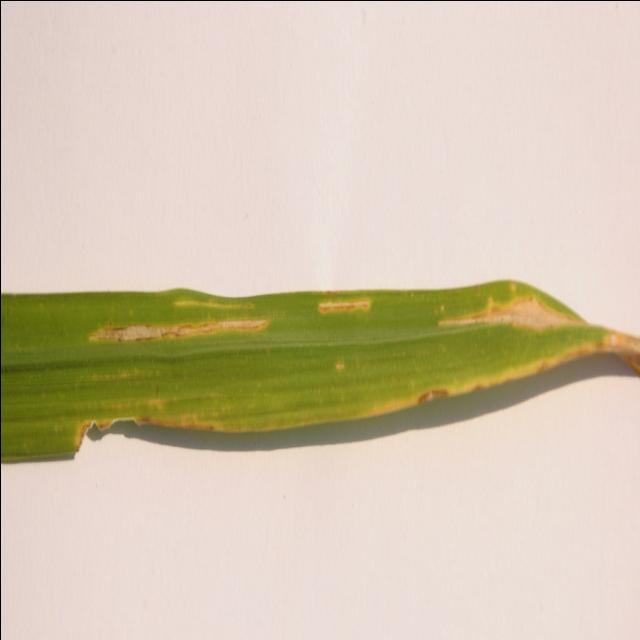Unhealthy: (358, 327, 640, 419), (75, 414, 254, 452), (437, 294, 596, 330), (88, 318, 267, 341), (317, 298, 369, 314), (173, 299, 253, 308), (105, 399, 168, 409), (508, 281, 515, 292), (335, 363, 344, 370), (440, 304, 444, 313)
